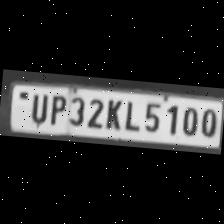0: (177, 102, 200, 137), (196, 105, 218, 138)
1: (160, 102, 180, 136)
2: (84, 95, 104, 130)
3: (66, 93, 86, 127)
5: (139, 98, 164, 134)
K: (102, 96, 124, 132)
L: (122, 98, 142, 132)
P: (46, 92, 66, 125)
U: (27, 90, 50, 125)
